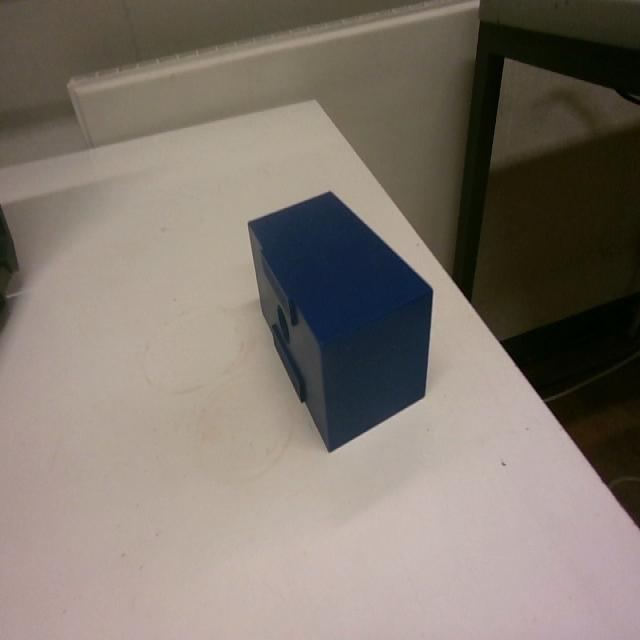Blue Cuboid: (244, 185, 435, 454)
